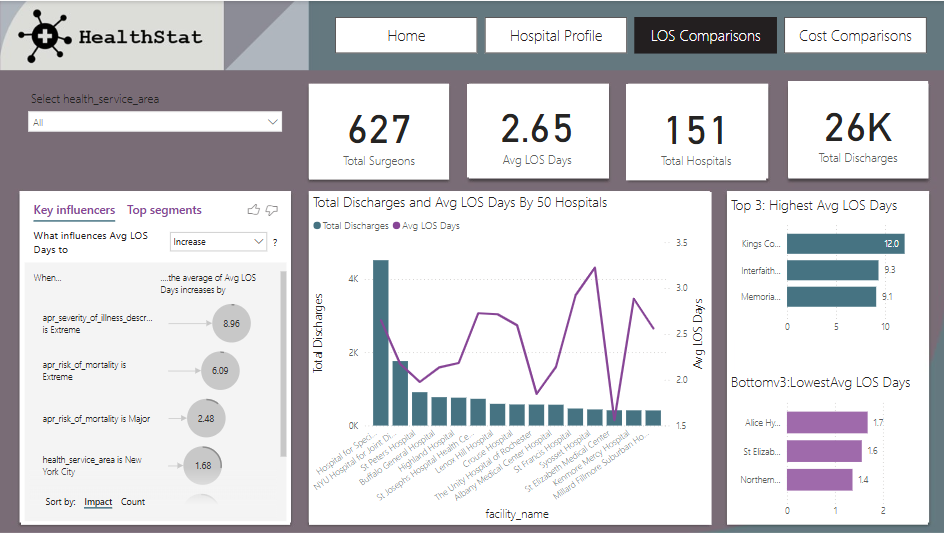

The page's visual inventory and layout, read from the dashboard file:
{"tool":"powerbi","page":{"name":"LOS Comparisons","canvas":[1280,720],"ordinal":2},"visuals":[{"type":"lineStackedColumnComboChart","title":"Total Discharges and Avg LOS Days By 50 Hospitals","fields":{"Category":["hospital_discharges.facility_name"],"Y":["__Measure.Total Discharges"],"Y2":["__Measure.Avg LOS Days"]},"box":[417.5,257.5,542.5,449.5],"z":0},{"type":"card","fields":{"Values":["__Measure.Total Surgeons"]},"box":[417.5,112,189.1,129.5],"z":1000},{"type":"slicer","fields":{"Values":["hospital_discharges.health_service_area"]},"box":[29.1,116.4,362.2,120.7],"z":2000},{"type":"card","fields":{"Values":["__Measure.Avg LOS Days"]},"box":[631,111.8,188.9,125.9],"z":3000},{"type":"card","fields":{"Values":["__Measure.Total Hospitals"]},"box":[845.6,111.8,188.9,129.8],"z":4000},{"type":"card","fields":{"Values":["__Measure.Total Discharges"]},"box":[1064.1,108,188.9,129.8],"z":5000},{"type":"keyDriversVisual","fields":{"Target":["__Measure.Avg LOS Days"],"ExplainBy":["hospital_discharges.apr_risk_of_mortality","hospital_discharges.apr_severity_of_illness_description","hospital_discharges.ccs_diagnosis_description","hospital_discharges.patient_disposition","hospital_discharges.gender","hospital_discharges.Age Bins","Surgical_program_Size_Summery.Surgical_program_Size","hospital_discharges.health_service_area"]},"box":[29.7,257.6,362.8,449.1],"z":6000},{"type":"clusteredBarChart","title":"Top 3: Highest Avg LOS Days ","fields":{"Category":["hospital_discharges.facility_name"],"Y":["__Measure.Avg LOS Days"]},"box":[981.9,261.7,271.1,195.6],"z":6001},{"type":"clusteredBarChart","title":"Bottomv3:LowestAvg LOS Days ","fields":{"Category":["hospital_discharges.facility_name"],"Y":["__Measure.Avg LOS Days"]},"box":[981.9,500.4,271.1,206.4],"z":6002},{"type":"pageNavigator","box":[453.2,21.6,799.8,49.9],"z":6003}]}

Visuals, with their boxes in screenshot pixels (x1, y1, x2, y2), scaled from the page's 1280x720 canvas onto the 944x535 screenshot:
"Total Discharges and Avg LOS Days By 50 Hospitals" lineStackedColumnComboChart: [x1=308, y1=191, x2=708, y2=525]
card - __Measure.Total Surgeons: [x1=308, y1=83, x2=447, y2=179]
slicer - hospital_discharges.health_service_area: [x1=21, y1=86, x2=289, y2=176]
card - __Measure.Avg LOS Days: [x1=465, y1=83, x2=605, y2=177]
card - __Measure.Total Hospitals: [x1=624, y1=83, x2=763, y2=180]
card - __Measure.Total Discharges: [x1=785, y1=80, x2=924, y2=177]
keyDriversVisual - __Measure.Avg LOS Days x hospital_discharges.apr_risk_of_mortality: [x1=22, y1=191, x2=289, y2=525]
"Top 3: Highest Avg LOS Days " clusteredBarChart: [x1=724, y1=194, x2=924, y2=340]
"Bottomv3:LowestAvg LOS Days " clusteredBarChart: [x1=724, y1=372, x2=924, y2=525]
pageNavigator: [x1=334, y1=16, x2=924, y2=53]
